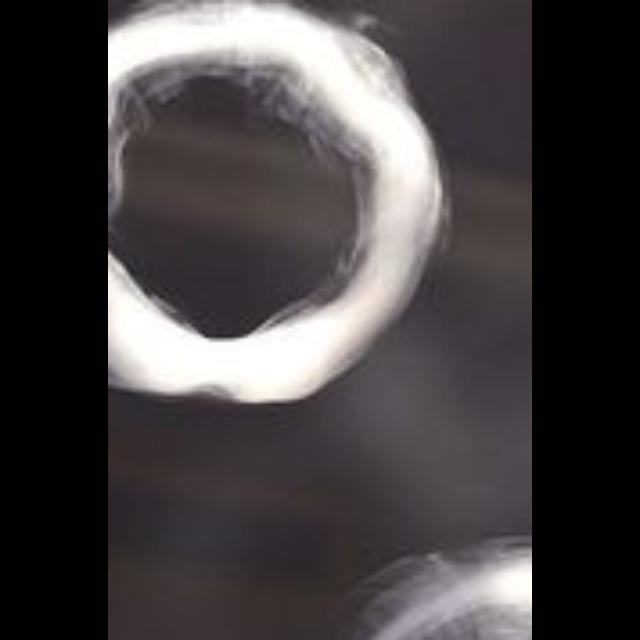smoke: (108, 0, 443, 401)
